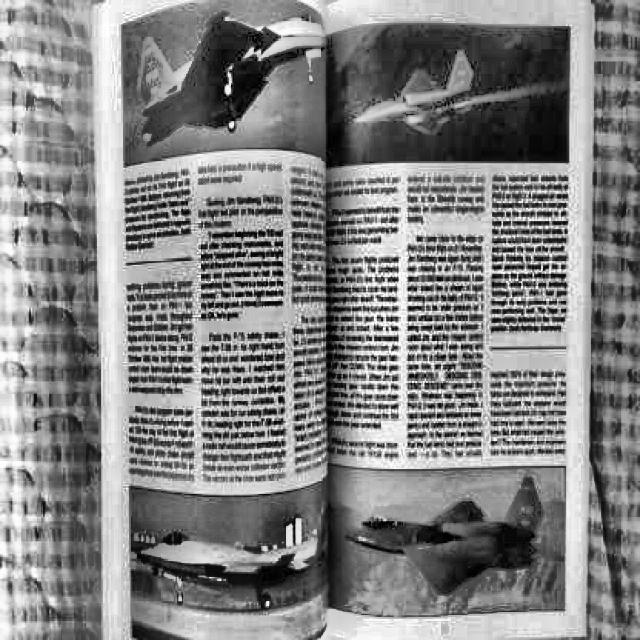YF23: (134, 9, 326, 148), (340, 477, 545, 595), (138, 499, 328, 610), (353, 50, 473, 136)
